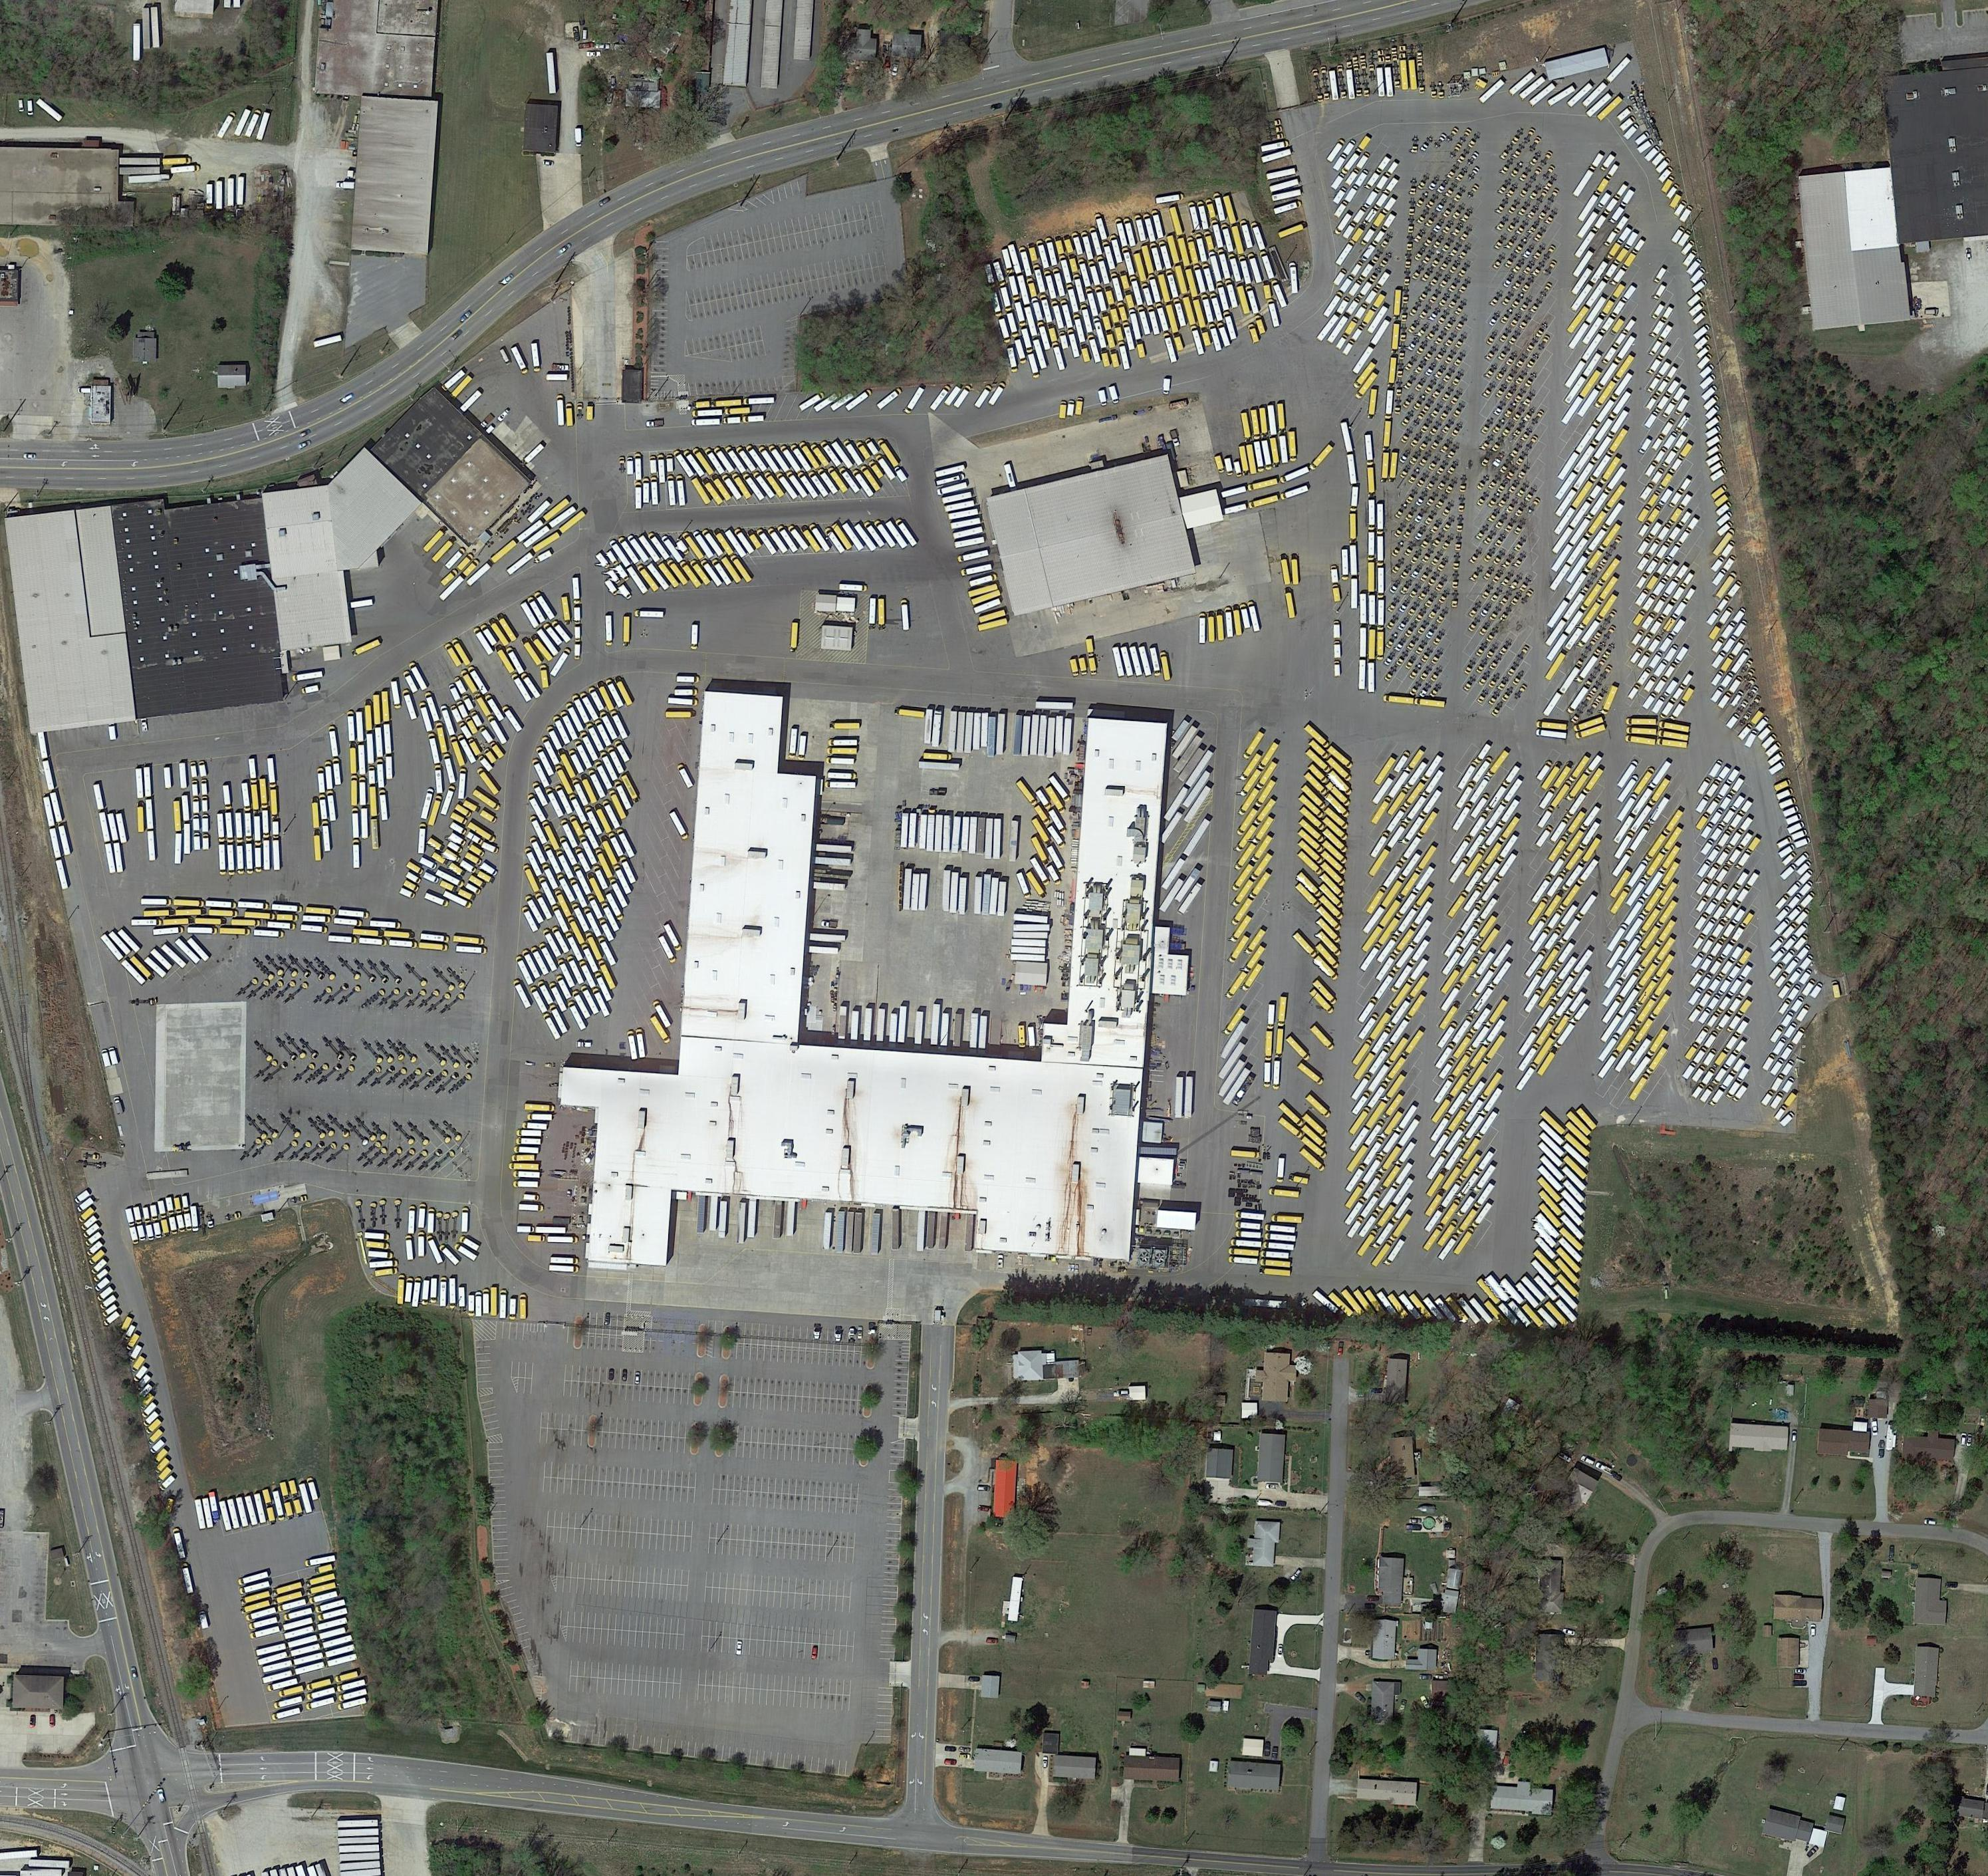ship: (1417, 1506, 1436, 1516), (1257, 1499, 1274, 1507)
